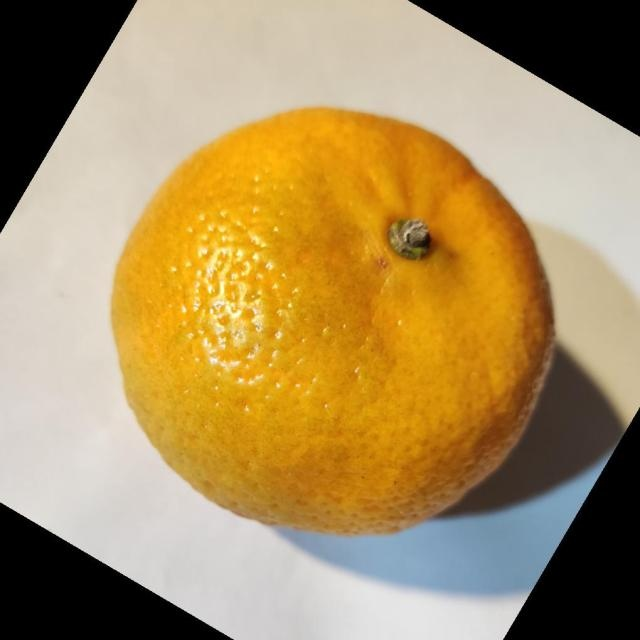agrume: (109, 105, 557, 536)
